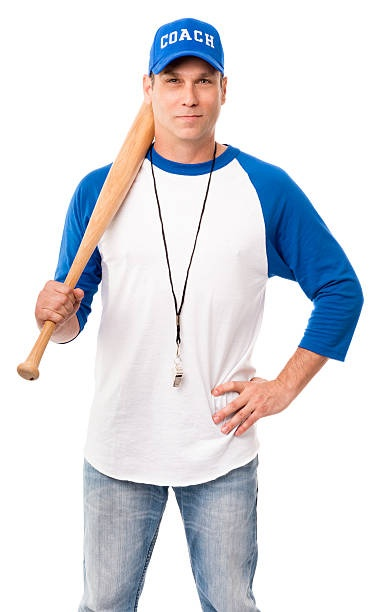bita: (20, 86, 161, 391)
